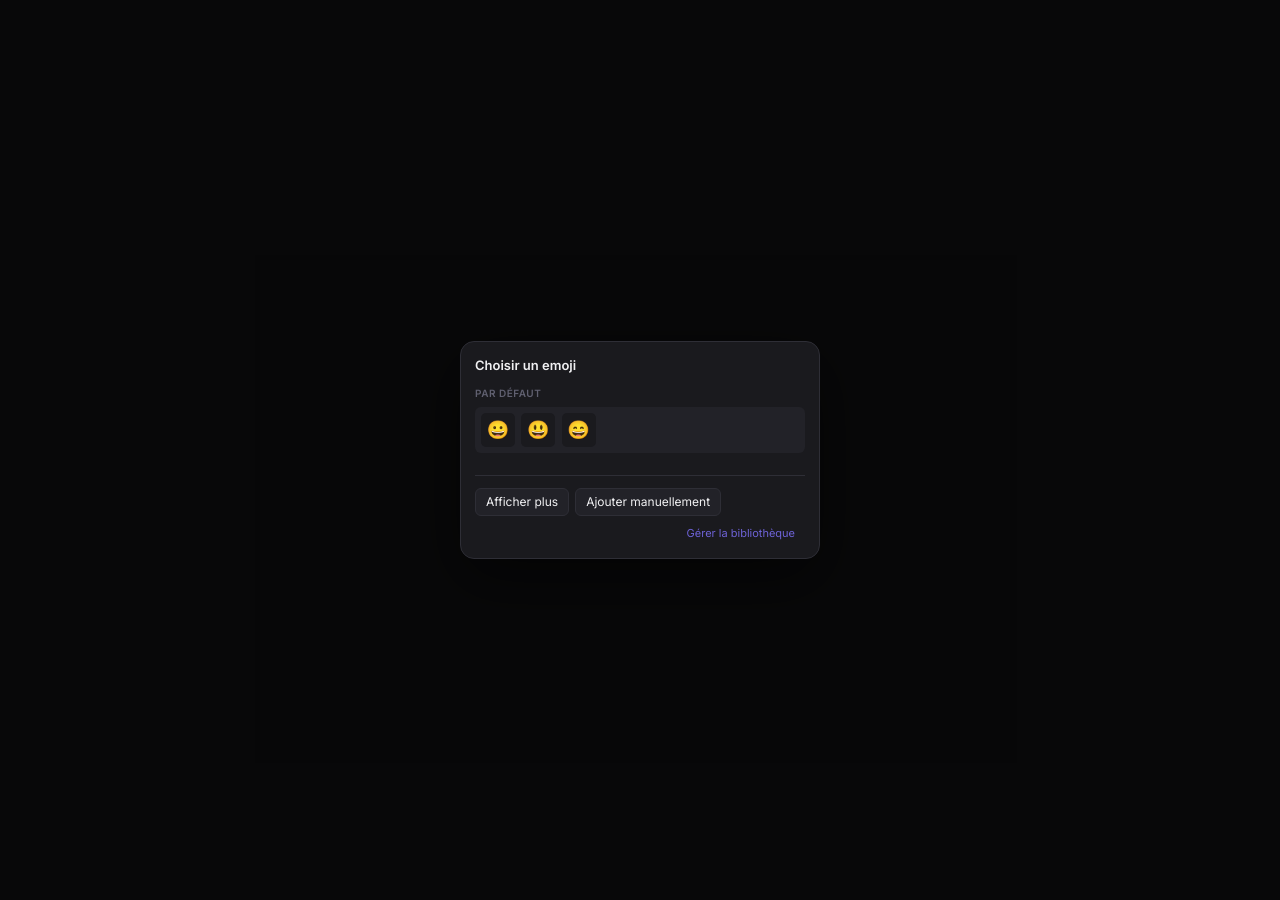
EmojiPicker › devrait ouvrir le formulaire d'ajout manuel
Click the button "Ajouter manuellement".
click(648, 502)  # box [575,488,721,516]
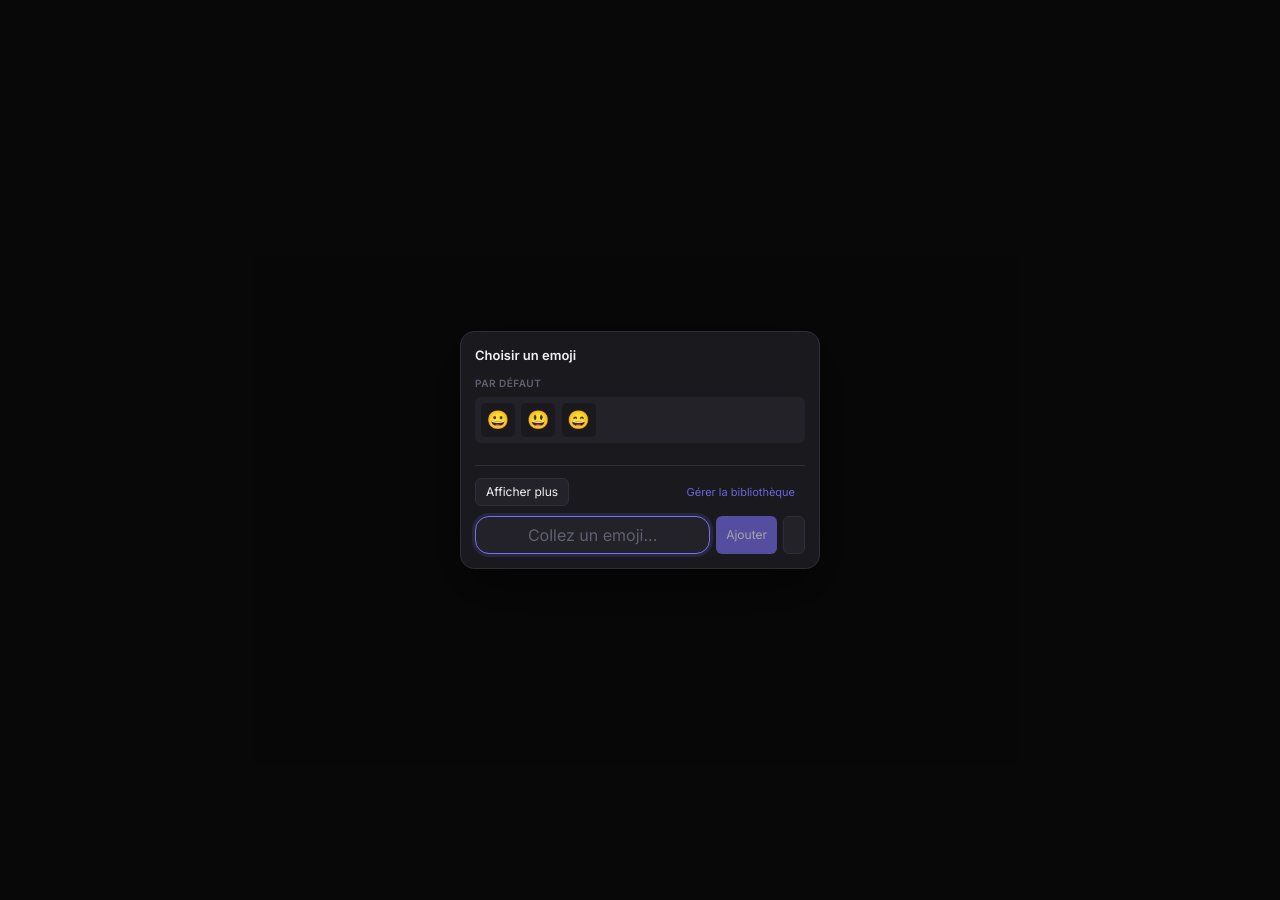
Expected: the field with placeholder "Collez un emoji..." is shown, [475,516,710,554]
